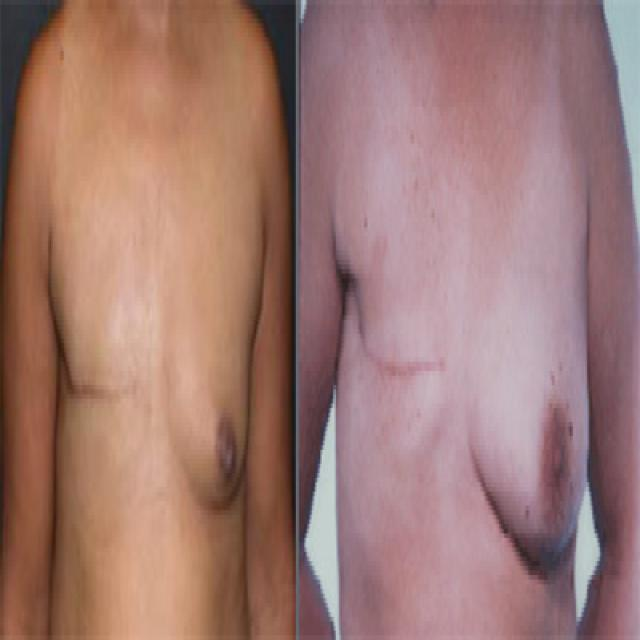Seno herido: (337, 189, 458, 458), (48, 207, 151, 448)
Seno ileso: (464, 192, 594, 608), (155, 233, 261, 535)
